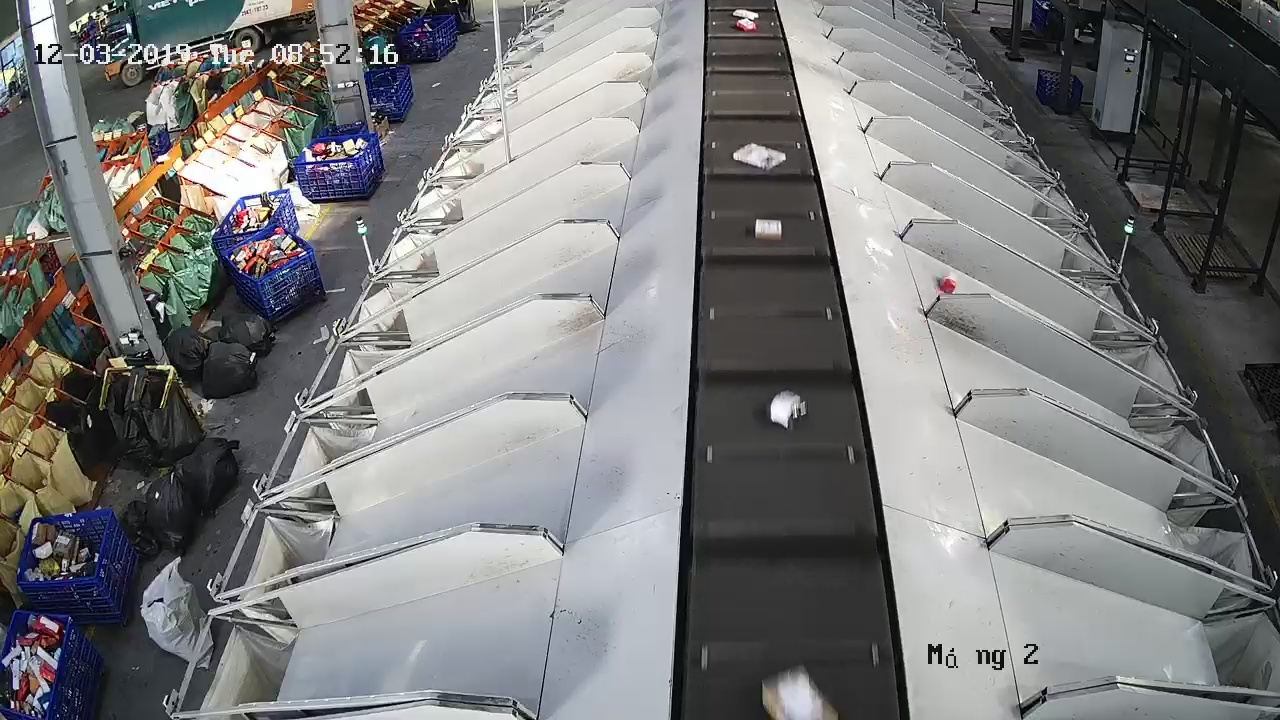parcel: (937, 273, 958, 293)
